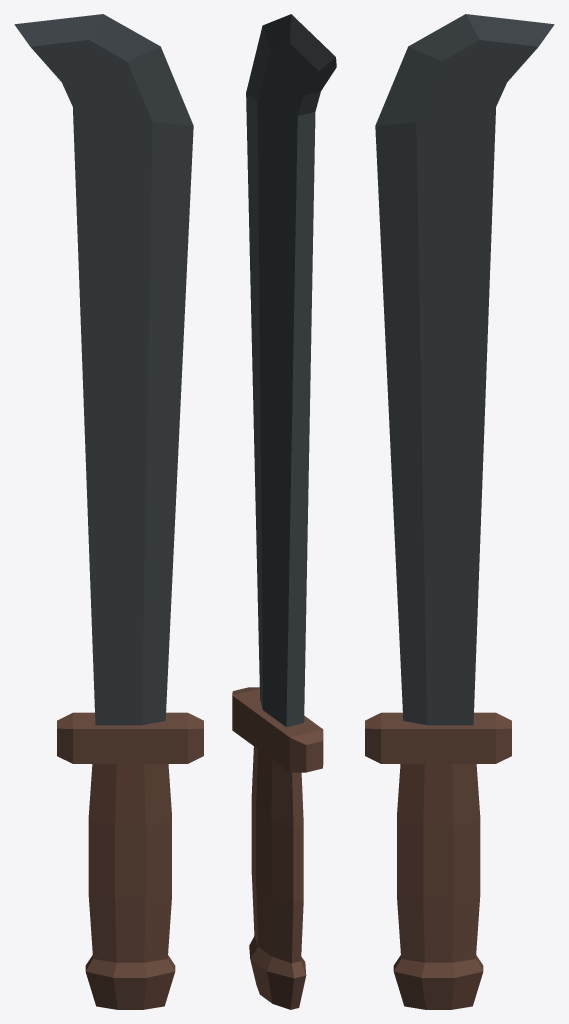
File: LPHorror_Machete.fbx
3 views of the same model, side by side, from view 1: azimuth 90°, elevation 25°; view 2: azimuth 210°, elevation 25°; view 3: azimuth 270°, elevation 25° (orthographic).
Parts seen in each view (by area): view 1: Machete; view 2: Machete; view 3: Machete.
Boxes of the visible parts, x1,y1,x2,y2 form: Machete: (14, 14, 203, 1009); Machete: (232, 14, 336, 1009); Machete: (365, 14, 554, 1009).
Size of the model in its own units: 4.27 by 106 by 18.42.
